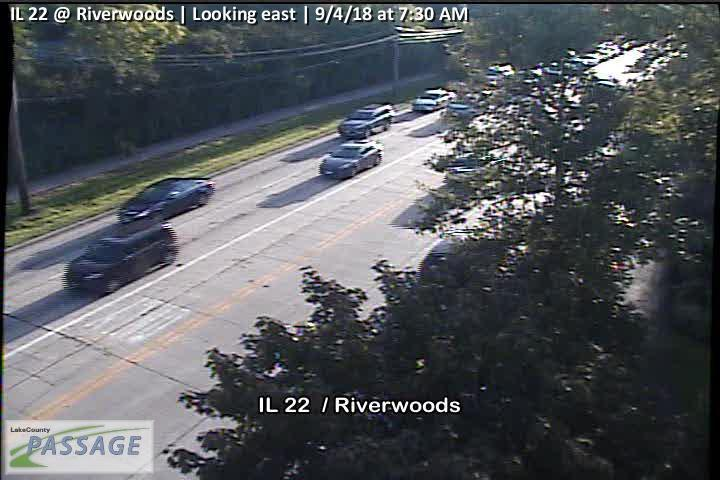SUV: (64, 222, 179, 292), (336, 102, 396, 138)
Sedan: (118, 176, 216, 225), (318, 139, 384, 179), (411, 88, 456, 111)
